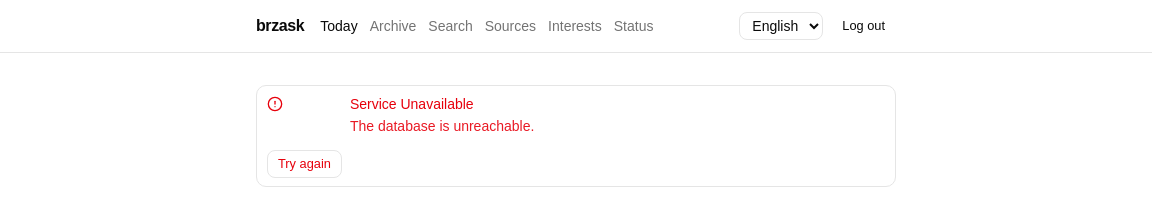
logged in › shows a problem from the API with a retry
The image size is (1152, 204).
Expected: the text "The database is unreachable." is shown, [350, 118, 534, 134]
Click the button "Try again".
click(304, 164)  # box [267, 150, 342, 178]
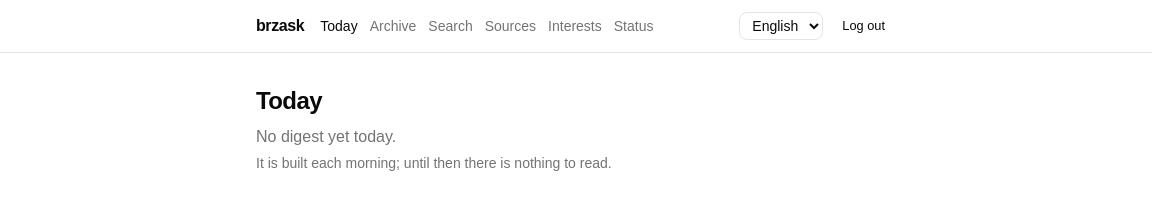
Now the text "No digest yet today." is shown, box [256, 128, 396, 145]
